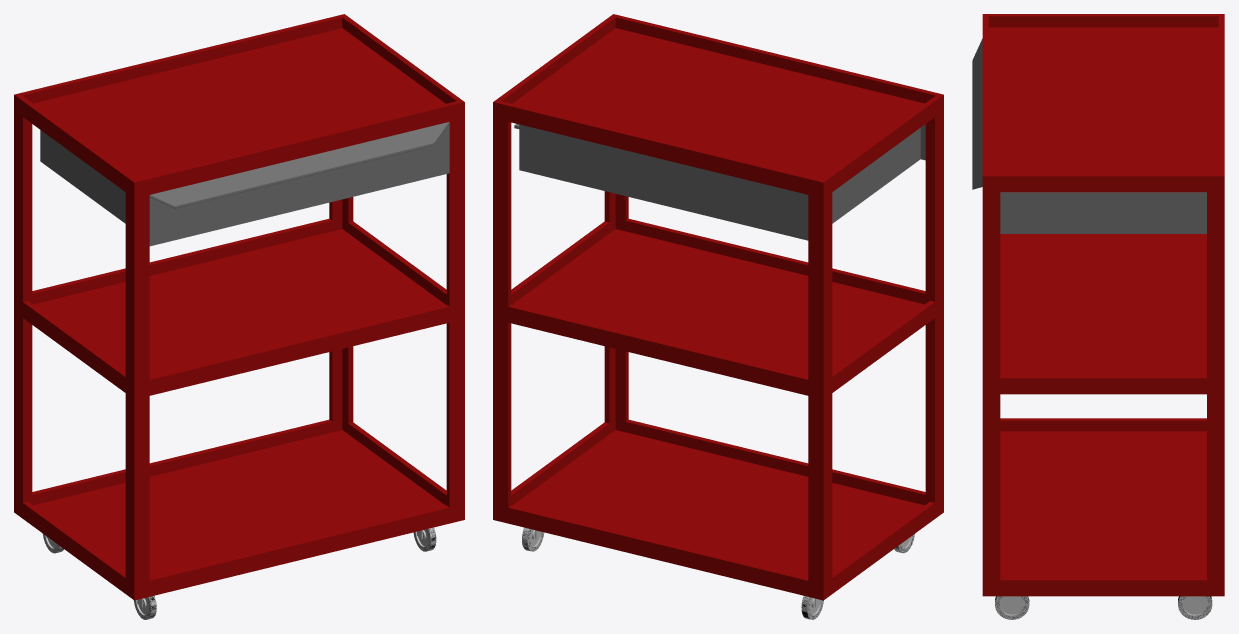
Rendered from Carrinho+de+Ferramentas.fbx.
3 views of the same model, side by side, from view 1: azimuth 30°, elevation 25°; view 2: azimuth 150°, elevation 25°; view 3: azimuth 270°, elevation 25° (orthographic).
Visible parts, largest first — view 1: Group1, Group2; view 2: Group1, Group2; view 3: Group1, Group2, Wheel1_1, Wheel1_3.
Boxes of the visible parts, left/top/right/bottom form: Group1: left=14, top=14, right=464, bottom=600; Group2: left=40, top=122, right=449, bottom=246; Group1: left=493, top=14, right=943, bottom=600; Group2: left=514, top=124, right=925, bottom=240; Group1: left=982, top=14, right=1224, bottom=596; Group2: left=972, top=38, right=1206, bottom=233; Wheel1_1: left=1178, top=596, right=1212, bottom=619; Wheel1_3: left=995, top=596, right=1029, bottom=619.
Bounding box in the file's own units: 0.65 × 0.8502 × 0.4276.
